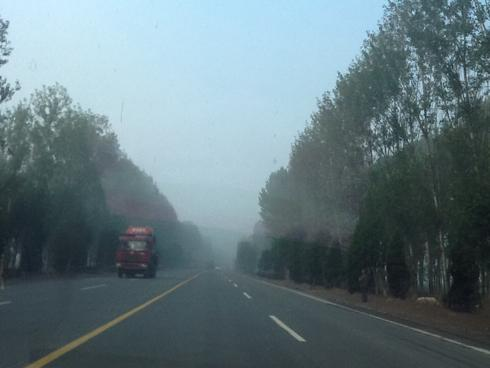bus: (116, 225, 157, 280)
